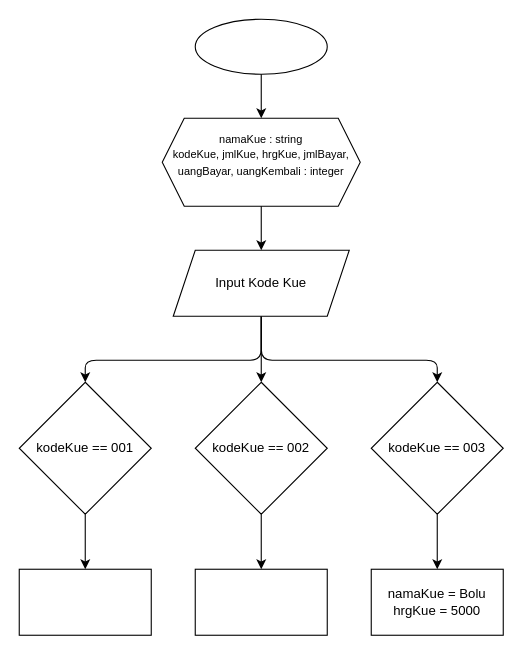
Image size: 523x655. Some labels were removed from this diagram. Here are the shapes that lost their labels. From the top down, the centre of each, then its label:
[260,46]: Mulai
[84,601]: namaKue = Pie hrgKue = 2000
[260,601]: namaKue = Brownies hrgKue = 3000
